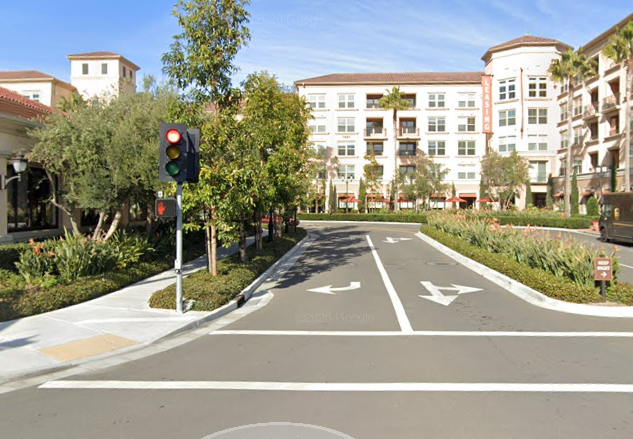red_light: (160, 126, 188, 181)
